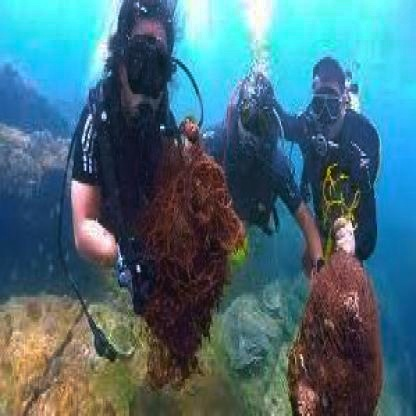net: (138, 146, 232, 374), (289, 255, 382, 416)
